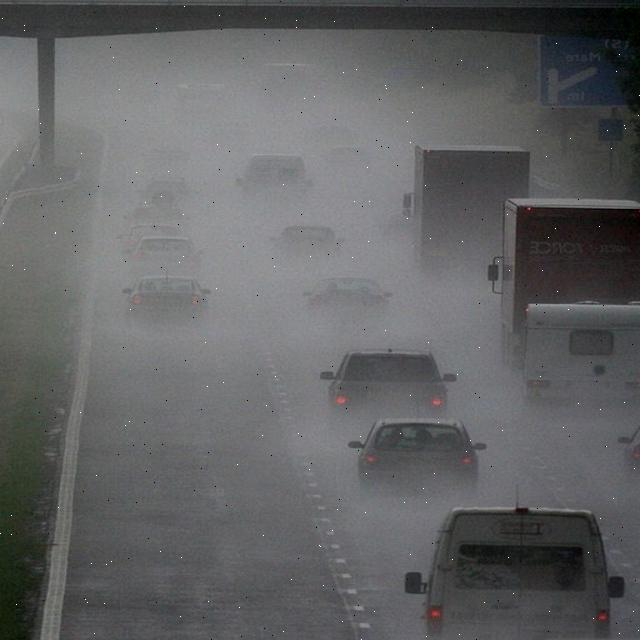Bus: (494, 196, 640, 402)
Car: (413, 504, 620, 640), (351, 418, 482, 493), (322, 347, 453, 415), (123, 275, 211, 323), (301, 276, 395, 319), (236, 154, 312, 197), (269, 224, 344, 259), (128, 234, 204, 268), (320, 145, 374, 184), (124, 223, 179, 253), (142, 176, 192, 207), (144, 146, 190, 179), (215, 116, 256, 146), (128, 204, 181, 227), (618, 420, 640, 470), (176, 82, 228, 102), (311, 125, 356, 148), (264, 63, 314, 81)
Truck: (412, 146, 532, 269)
